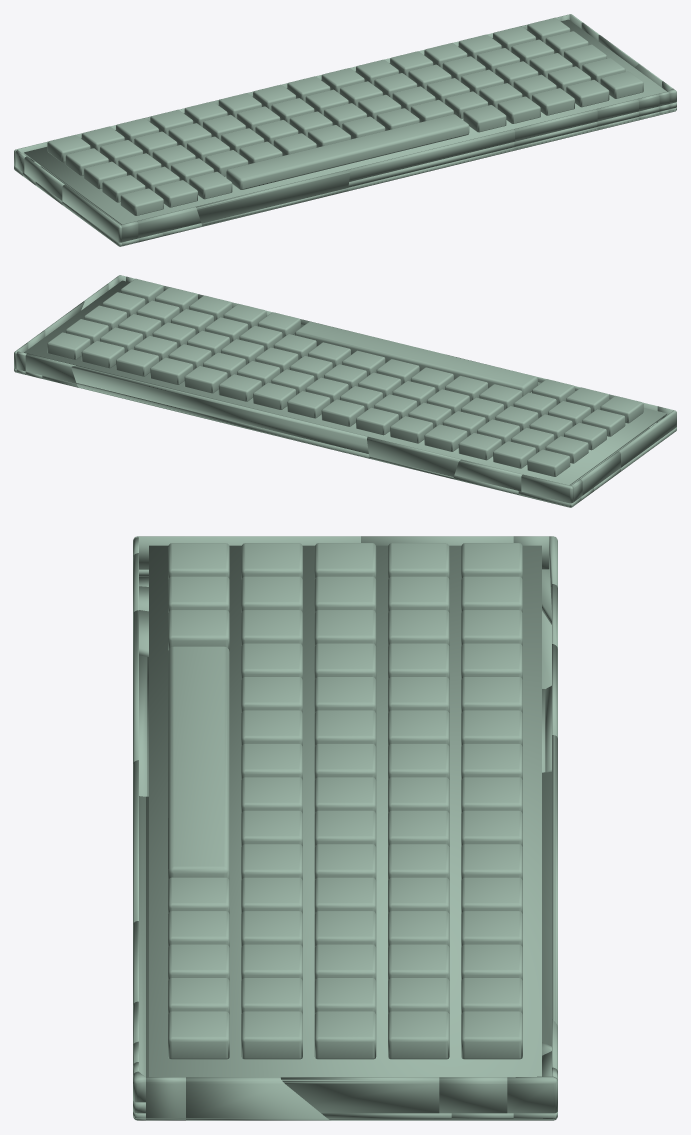
The model's file is collision-hulls.glb.
3 views of the same model, one above another, from view 1: azimuth 30°, elevation 25°; view 2: azimuth 150°, elevation 25°; view 3: azimuth 270°, elevation 25° (orthographic). The views are drawn at different scales.
Parts seen in each view (by area): view 1: fragment-006-hull-00, fragment-076-hull-00, fragment-000-hull-00, fragment-003-hull-05, fragment-001-hull-02, fragment-001-hull-00, fragment-003-hull-04, fragment-003-hull-11, fragment-068-hull-00, fragment-071-hull-00, fragment-070-hull-00, fragment-075-hull-00 (+70 smaller); view 2: fragment-006-hull-00, fragment-005-hull-00, fragment-076-hull-00, fragment-000-hull-06, fragment-005-hull-02, fragment-001-hull-12, fragment-001-hull-02, fragment-001-hull-14, fragment-004-hull-04, fragment-008-hull-00, fragment-015-hull-00, fragment-010-hull-00 (+67 smaller); view 3: fragment-006-hull-00, fragment-076-hull-00, fragment-004-hull-00, fragment-003-hull-21, fragment-052-hull-00, fragment-022-hull-00, fragment-075-hull-00, fragment-037-hull-00, fragment-067-hull-00, fragment-005-hull-03, fragment-004-hull-01, fragment-070-hull-00 (+72 smaller).
Boxes of the visible parts, x1,y1,x2,y2 form: fragment-006-hull-00: (24, 19, 666, 224); fragment-076-hull-00: (226, 114, 469, 189); fragment-000-hull-00: (196, 169, 350, 223); fragment-003-hull-05: (349, 129, 514, 181); fragment-001-hull-02: (62, 184, 121, 242); fragment-001-hull-00: (137, 207, 201, 238); fragment-003-hull-04: (514, 109, 597, 141); fragment-003-hull-11: (348, 142, 514, 187); fragment-068-hull-00: (120, 188, 163, 215); fragment-071-hull-00: (463, 105, 506, 132); fragment-070-hull-00: (189, 171, 232, 199); fragment-075-hull-00: (600, 71, 643, 98); fragment-006-hull-00: (24, 280, 666, 485); fragment-005-hull-00: (71, 365, 368, 453); fragment-076-hull-00: (295, 321, 537, 396); fragment-000-hull-06: (367, 437, 460, 476); fragment-005-hull-02: (76, 383, 369, 458); fragment-001-hull-12: (454, 459, 522, 491); fragment-001-hull-02: (618, 410, 676, 467); fragment-001-hull-14: (521, 474, 573, 503); fragment-004-hull-04: (25, 353, 76, 383); fragment-008-hull-00: (527, 449, 570, 476); fragment-015-hull-00: (287, 391, 330, 418); fragment-010-hull-00: (458, 432, 501, 460); fragment-006-hull-00: (149, 545, 541, 1077); fragment-076-hull-00: (168, 646, 229, 881); fragment-004-hull-00: (281, 1077, 439, 1113); fragment-003-hull-21: (186, 1077, 326, 1118); fragment-052-hull-00: (314, 1011, 376, 1059); fragment-022-hull-00: (461, 1011, 522, 1059); fragment-075-hull-00: (168, 1011, 229, 1059); fragment-037-hull-00: (388, 1011, 449, 1059); fragment-067-hull-00: (241, 1011, 302, 1059); fragment-005-hull-03: (542, 772, 551, 1046); fragment-004-hull-01: (439, 1077, 507, 1113); fragment-070-hull-00: (168, 610, 229, 651).
Bounding box in the file's own units: 0.44 × 0.0225 × 0.145.
